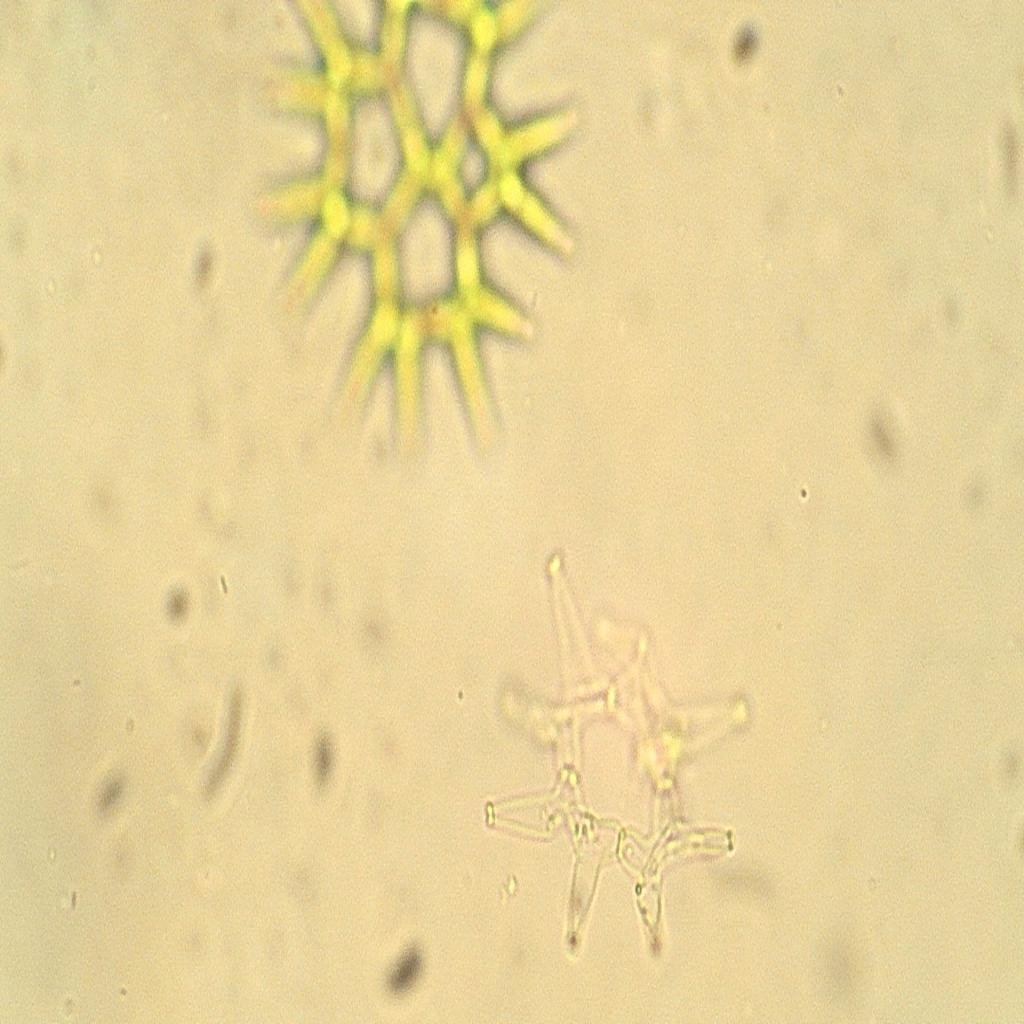Pediastrum_75TH: (461, 478, 759, 996)
